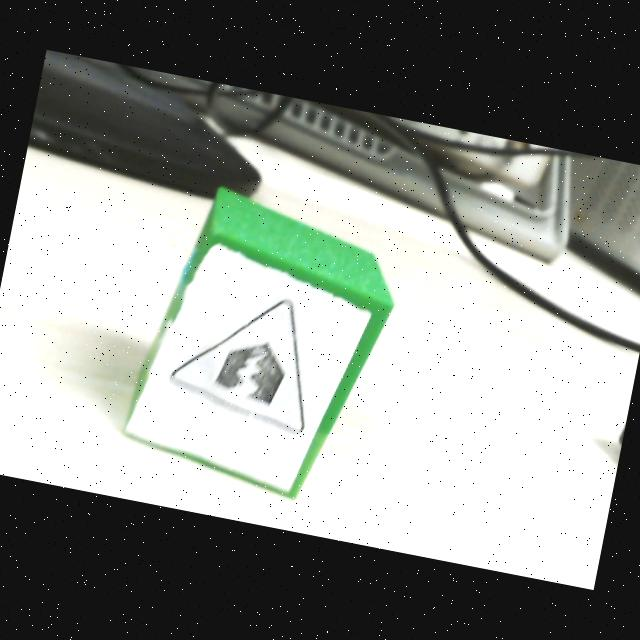Earthquake: (162, 282, 328, 437), (169, 300, 306, 435)
